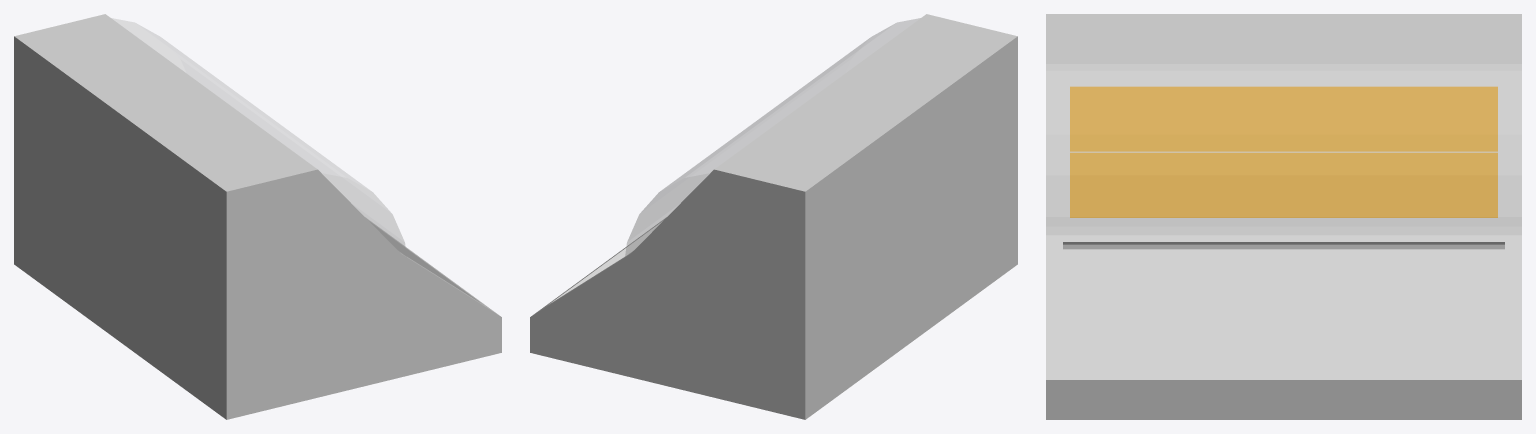
The model's file is Rolodex.glb.
3 renders of one model, left to right at view 1: azimuth 30°, elevation 25°; view 2: azimuth 150°, elevation 25°; view 3: azimuth 270°, elevation 25°, orthographic. The views are drawn at different scales.
Visible parts, largest first — view 1: Rolodex, Rolodex_rolltop; view 2: Rolodex, Rolodex_rolltop; view 3: Rolodex, Rolodex_rolltop, Rolodex_leaflets.
Part boxes in pixels (x1,y1,x2,y2): Rolodex: [14, 14, 501, 419]; Rolodex_rolltop: [111, 18, 406, 256]; Rolodex: [530, 14, 1017, 419]; Rolodex_rolltop: [625, 18, 920, 256]; Rolodex: [1046, 14, 1521, 419]; Rolodex_rolltop: [1046, 71, 1521, 234]; Rolodex_leaflets: [1070, 86, 1497, 217].
Size of the model in its own units: 2.99 by 2.37 by 4.
